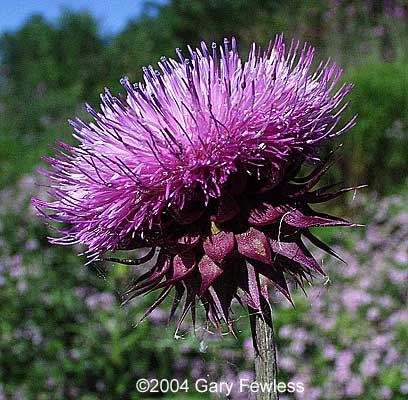thistle: (28, 40, 361, 331)
